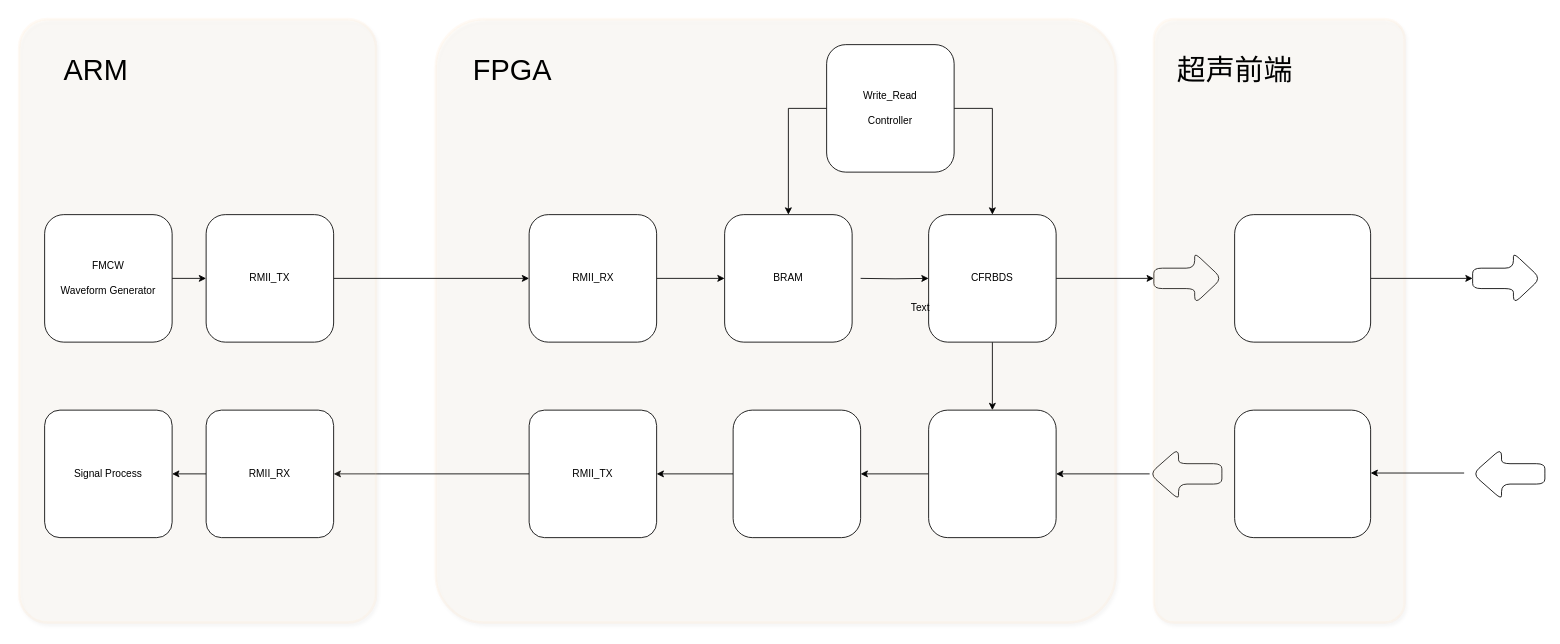
Image size: 1560x644. Some labels were removed from this diagram. The centre of each missing label's shape, as x and y in pixels:
FIFO: pixel 796 473
MIC: pixel 1302 473
PDM_TO_FIFO: pixel 992 473
驱动电路: pixel 1302 278
